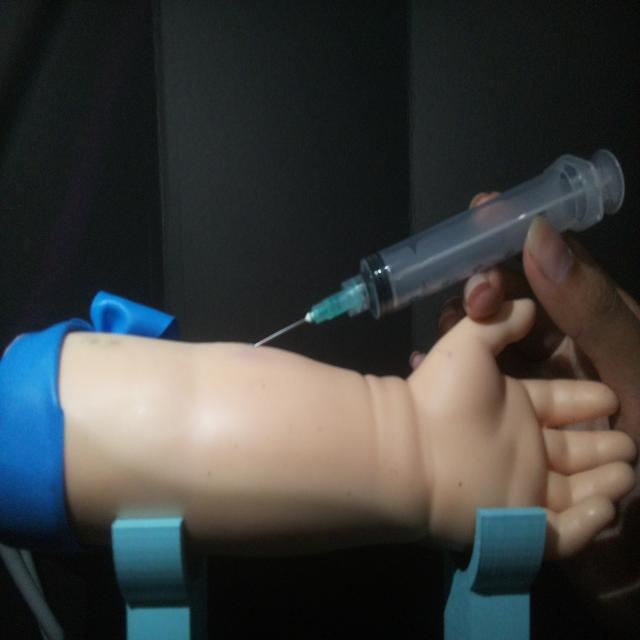25deg: (248, 142, 628, 352)
